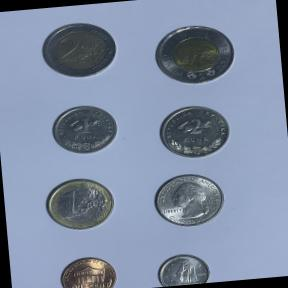1 Euro: (39, 172, 120, 236)
2 Euro: (35, 16, 124, 88)
Canda-10cent-: (150, 250, 216, 288)
Canda-2Dollar-: (148, 19, 241, 92)
Croatia-2Kune-: (150, 99, 235, 164)
US-1cent-: (55, 251, 121, 288)
US-25cent-: (146, 168, 233, 232)
